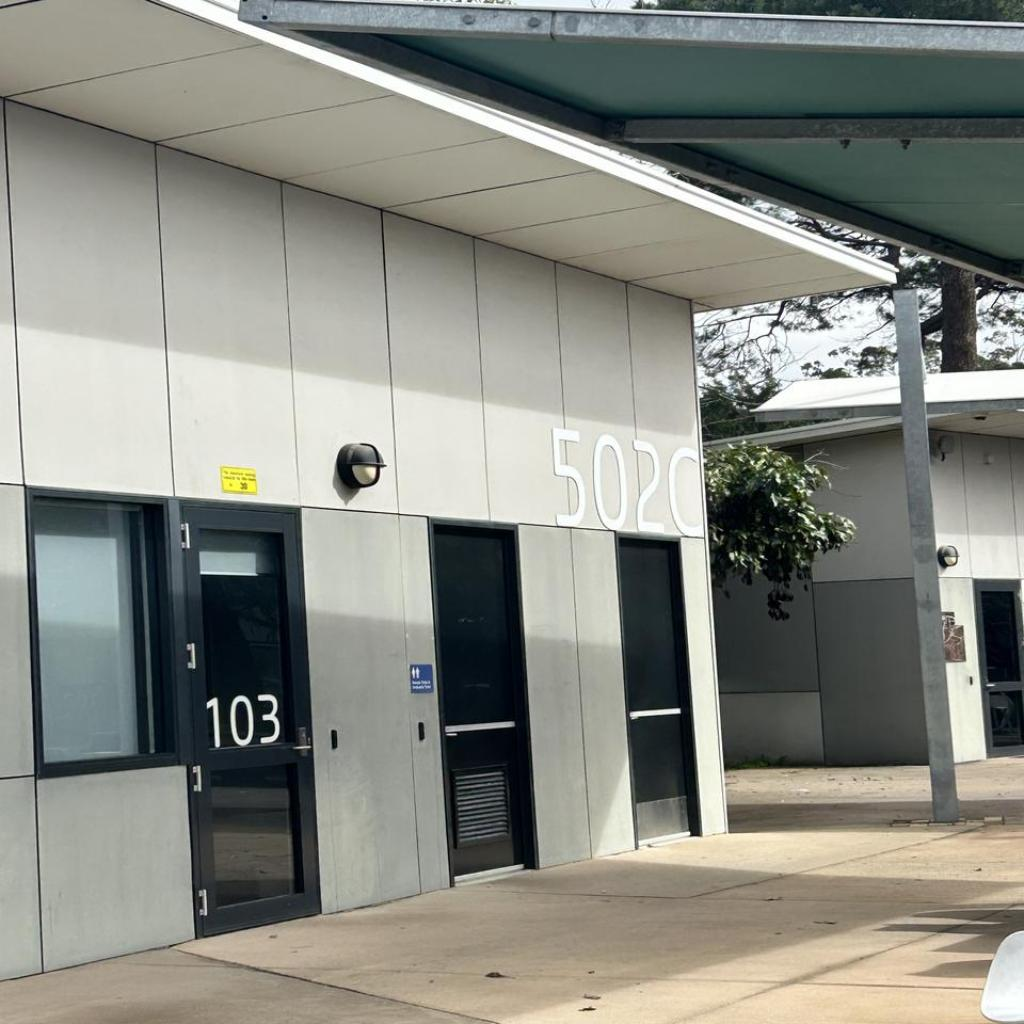BuildingCodes: (550, 426, 708, 540), (204, 691, 284, 751)
